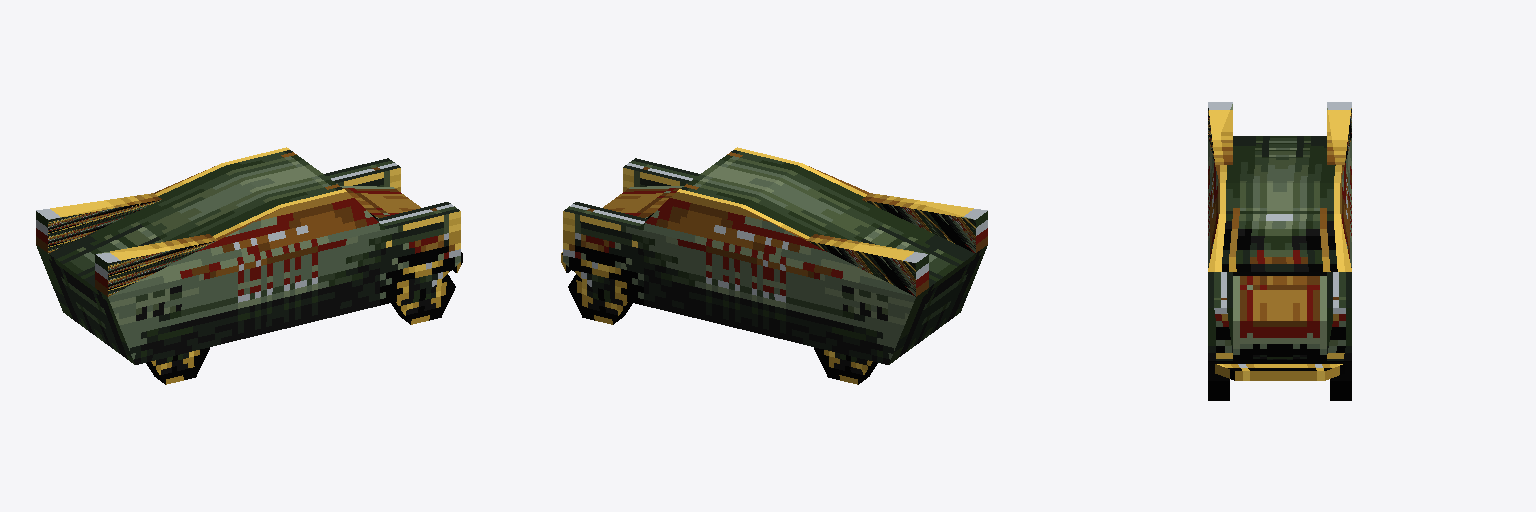
3 views of the same model, side by side, from view 1: azimuth 30°, elevation 25°; view 2: azimuth 150°, elevation 25°; view 3: azimuth 270°, elevation 25° (orthographic).
Size of the model in its own units: 4.01 by 1.49 by 1.36.
Materials: 1 (1 with a texture image).